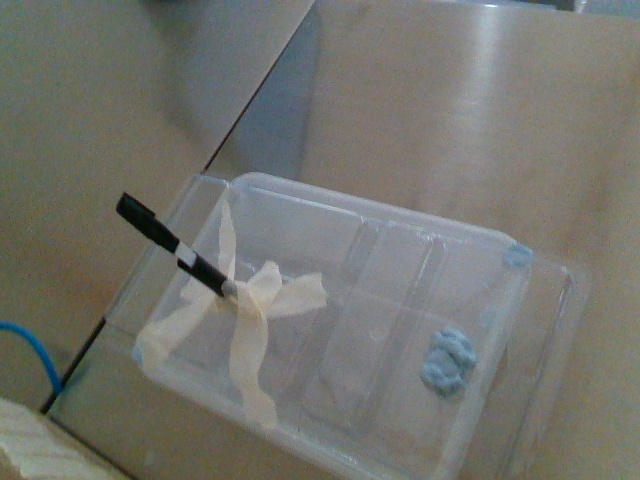test_strip: (113, 190, 196, 267)
